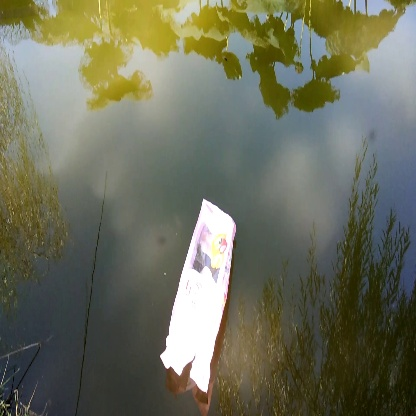plastic-bag: (162, 198, 240, 398)
